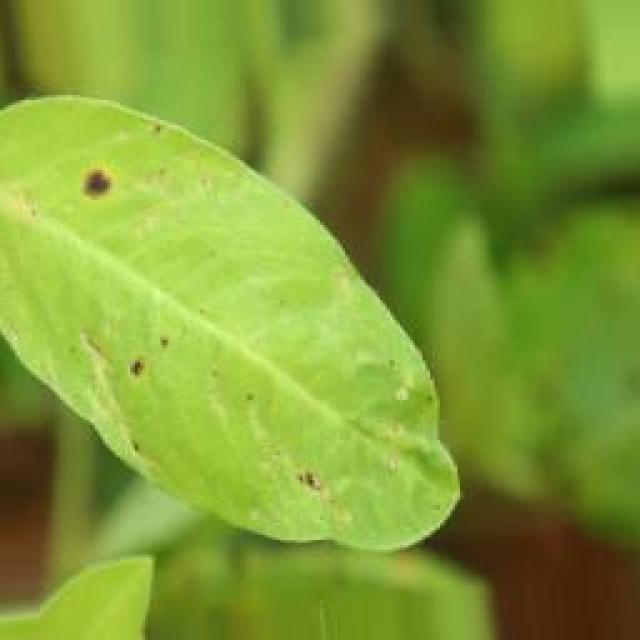Sigatoka: (217, 400, 349, 519), (100, 291, 198, 394), (63, 142, 167, 229), (132, 104, 206, 182)
